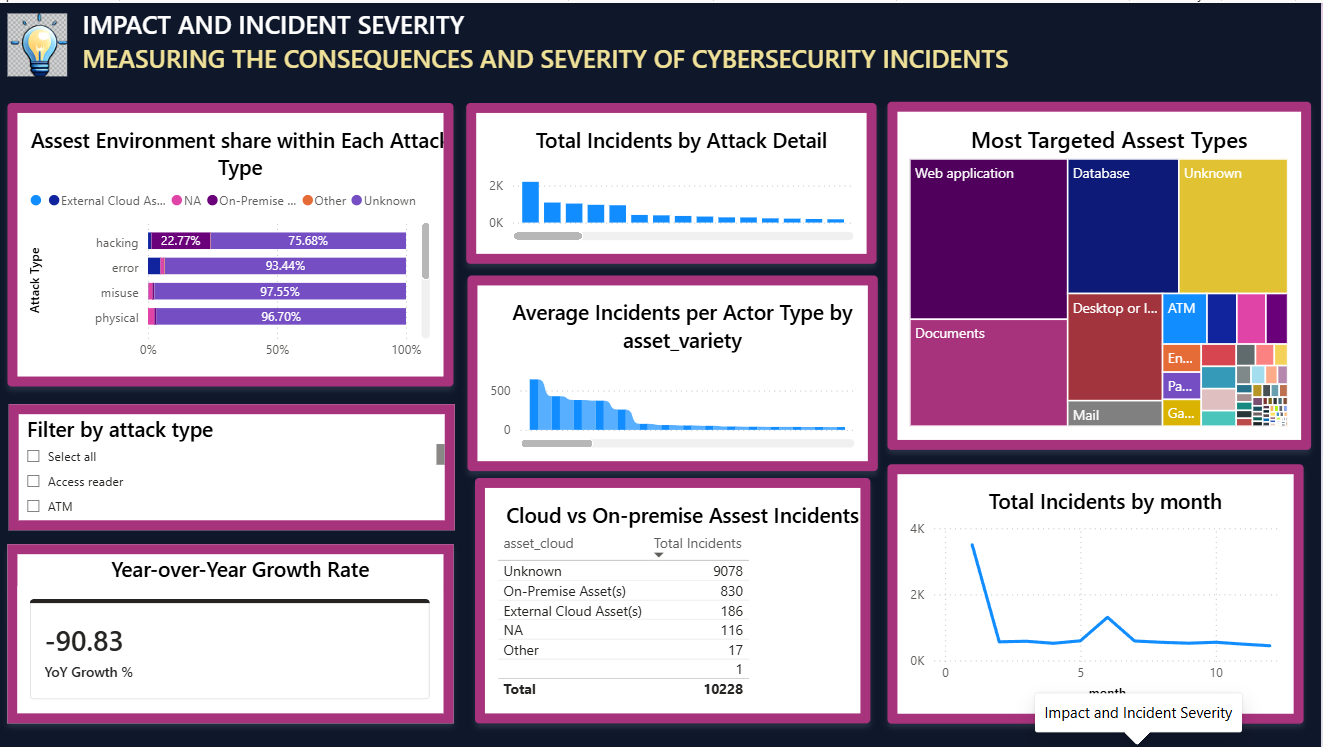

The page's visual inventory and layout, read from the dashboard file:
{"tool":"powerbi","page":{"name":"Impact and Incident Severity","canvas":[1280,720],"ordinal":4},"visuals":[{"type":"textbox","box":[0,0,1280,80],"z":0},{"type":"hundredPercentStackedBarChart","title":"Assest Environment share within Each Attack Type","fields":{"Category":["result.Attack Type"],"Y":["result.Total Incidents"],"Series":["result.asset_cloud"]},"box":[12.5,96.2,430,273.8],"z":1000},{"type":"slicer","fields":{"Values":["result.asset_variety"]},"box":[13.3,387.3,430,121.2],"z":2000},{"type":"cardVisual","title":"Year-over-Year Growth Rate","fields":{"Data":["result.YoY Growth %"]},"box":[12.5,522.5,430,172.5],"z":3000},{"type":"treemap","title":"Most Targeted Assest Types","fields":{"Group":["result.asset_variety"],"Values":["result.Total Incidents"]},"box":[861.4,95.7,408.6,335.7],"z":4000},{"type":"tableEx","title":"Cloud vs On-premise Assest Incidents","fields":{"Values":["result.asset_cloud","result.Total Incidents"]},"box":[462.9,458.6,381.4,237.1],"z":5000},{"type":"clusteredColumnChart","fields":{"Category":["result.Attack Detail"],"Y":["result.Total Incidents"]},"box":[455,96.2,396.2,155],"z":6000},{"type":"ribbonChart","fields":{"Y":["result.Average Incidents per Actor Type"],"Category":["result.asset_variety"]},"box":[455.7,262.9,395.7,188.6],"z":7000},{"type":"lineChart","fields":{"Category":["result.month"],"Y":["result.Total Incidents"]},"box":[861.4,445.7,401.4,250],"z":8000},{"type":"image","box":[12.1,8.4,57.9,63.9],"z":9000}]}

Visuals, with their boxes in screenshot pixels (x1, y1, x2, y2), scaled from the page's 1280x720 canvas onto the 1323x747 screenshot:
textbox: [0,0,1322,83]
"Assest Environment share within Each Attack Type" hundredPercentStackedBarChart: [13,100,457,384]
slicer - result.asset_variety: [14,402,458,528]
"Year-over-Year Growth Rate" cardVisual: [13,542,457,721]
"Most Targeted Assest Types" treemap: [890,99,1313,448]
"Cloud vs On-premise Assest Incidents" tableEx: [478,476,873,722]
clusteredColumnChart - result.Attack Detail x result.Total Incidents: [470,100,880,261]
ribbonChart - result.Average Incidents per Actor Type x result.asset_variety: [471,273,880,468]
lineChart - result.month x result.Total Incidents: [890,462,1305,722]
image: [13,9,72,75]
